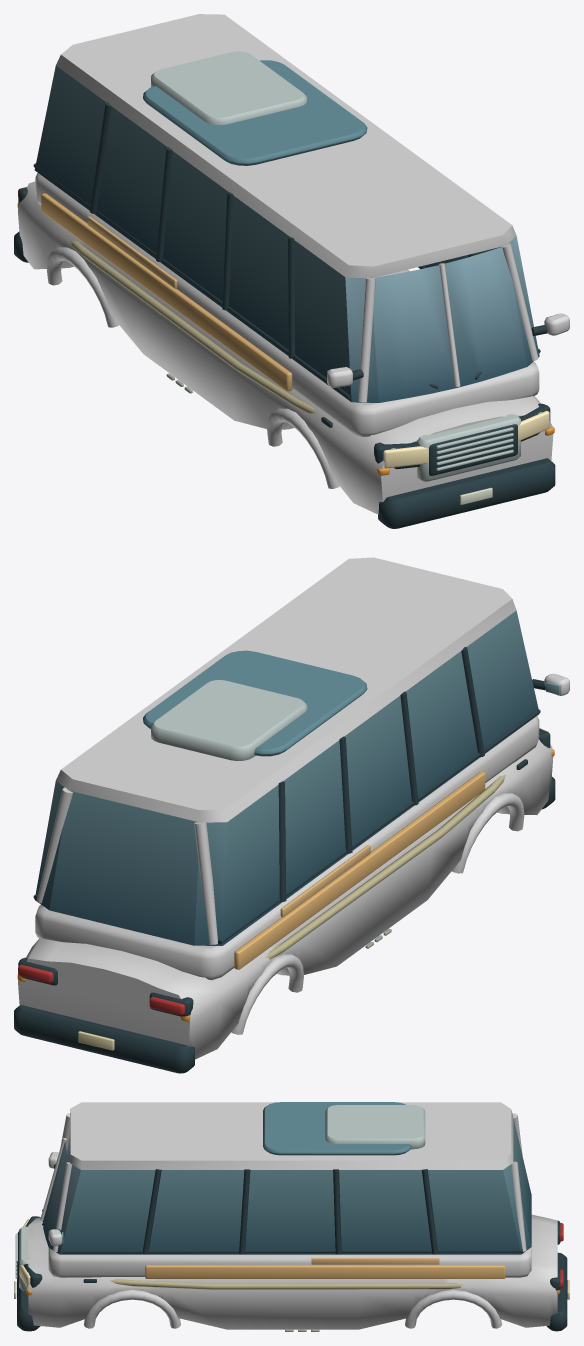
The model's file is reefvan.glb.
3 views of the same model, one above another, from view 1: azimuth 30°, elevation 25°; view 2: azimuth 150°, elevation 25°; view 3: azimuth 270°, elevation 25° (orthographic). The views are drawn at different scales.
Parts seen in each view (by area): view 1: Chassis, Headlamps; view 2: Chassis, BrakeLamps; view 3: Chassis.
Boxes of the visible parts, left/top/right/bottom form: Chassis: left=14, top=14, right=569, bottom=528; Headlamps: left=383, top=411, right=549, bottom=468; Chassis: left=14, top=557, right=569, bottom=1073; BrakeLamps: left=18, top=964, right=185, bottom=1015; Chassis: left=14, top=1102, right=569, bottom=1331.
Size of the model in its own units: 2.18 by 2.16 by 6.01.
